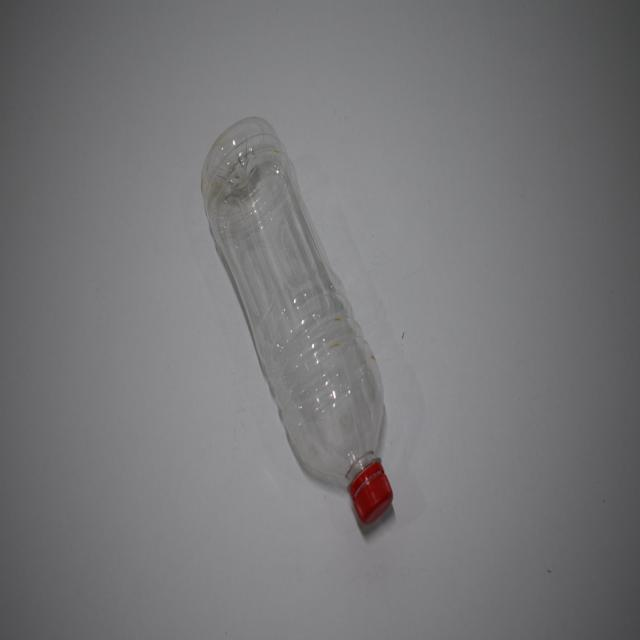empty: (201, 117, 393, 525)
